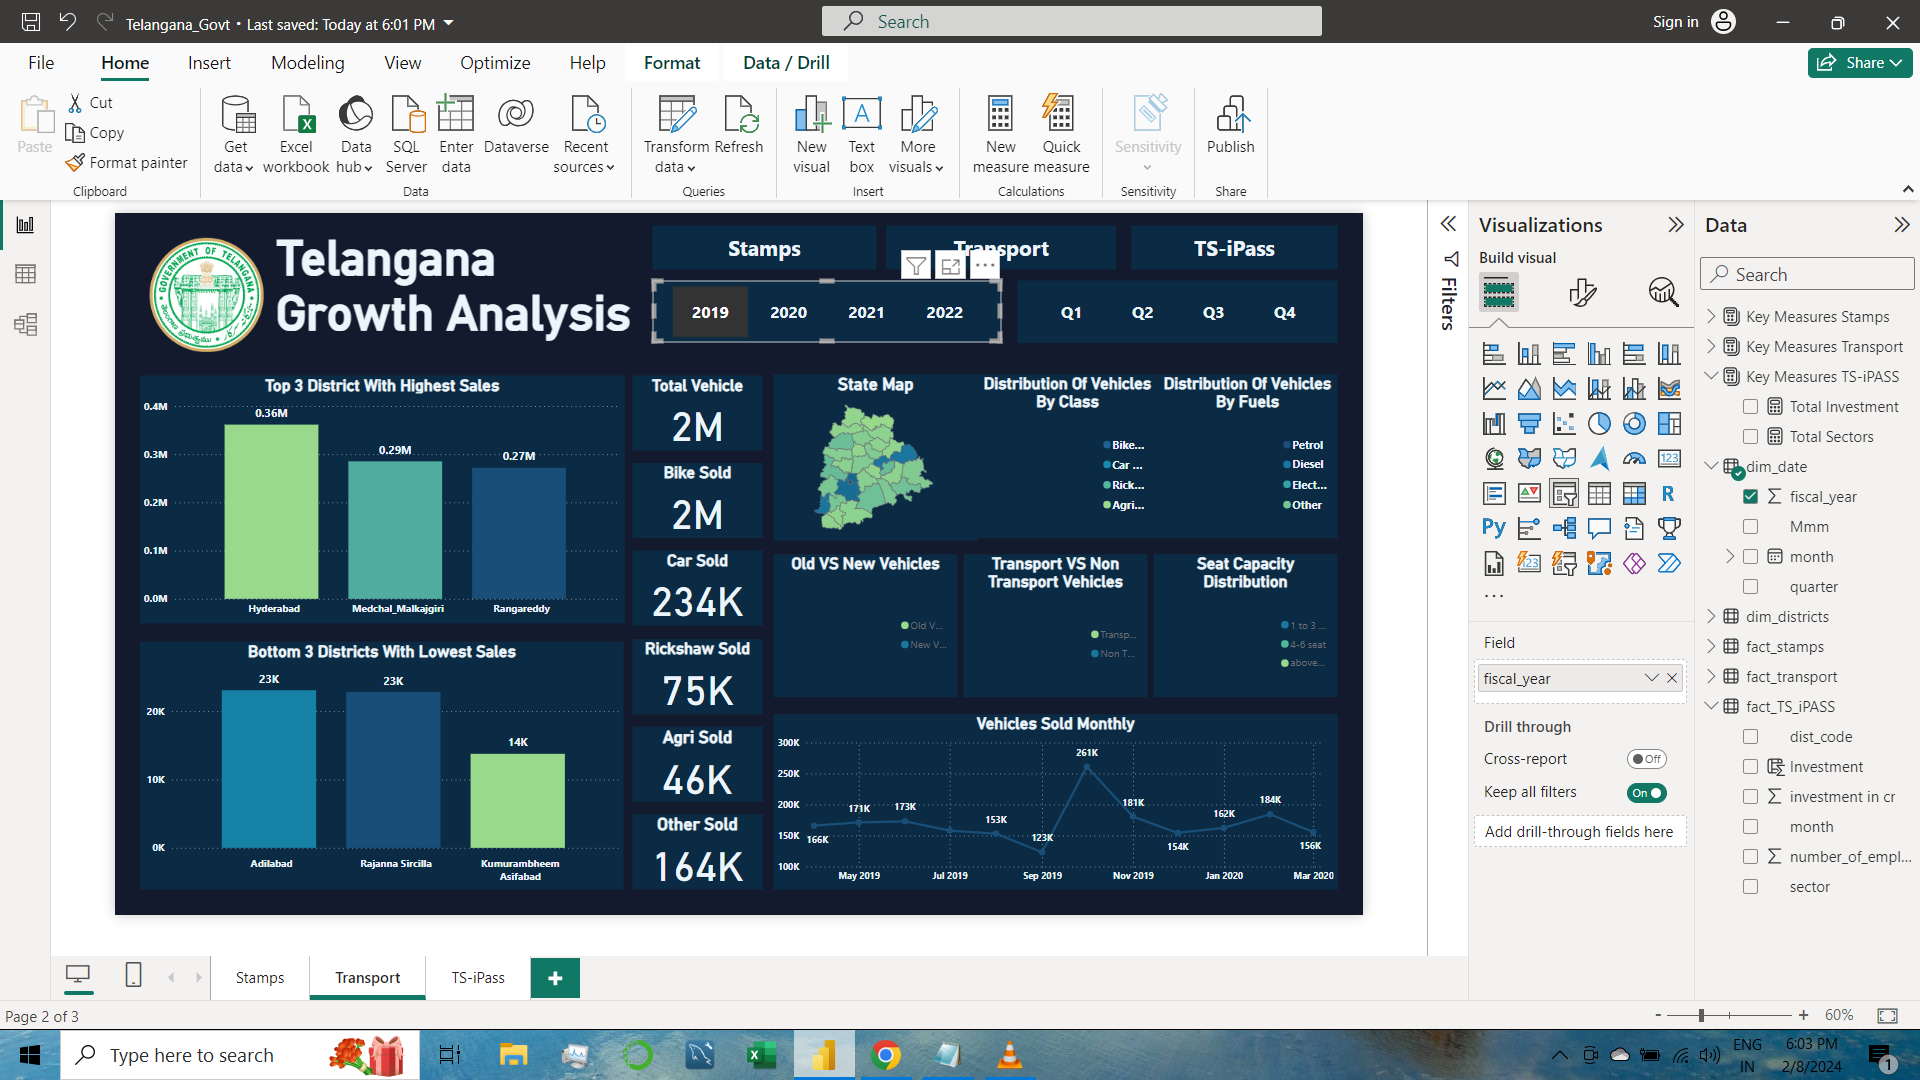

This screenshot's page, from the dashboard's own definition file:
{"tool":"powerbi","page":{"name":"Transport","canvas":[1664,936],"ordinal":1},"visuals":[{"type":"slicer","fields":{"Values":["dim_date.fiscal_year"]},"box":[716.7,90,465,83.3],"z":0},{"type":"slicer","fields":{"Values":["dim_date.quarter"]},"box":[1203.3,90,426.7,83.3],"z":1000},{"type":"clusteredColumnChart","title":"Top 3 District With Highest Sales","fields":{"Category":["dim_districts.district"],"Y":["Key Measures Transport.Total Vehicle Sold"]},"box":[34,216,646,330],"z":2000},{"type":"clusteredColumnChart","title":"Bottom 3 Districts With Lowest Sales","fields":{"Category":["dim_districts.district"],"Y":["Key Measures Transport.Total Vehicle Sold"]},"box":[33.3,571.7,645,330],"z":3000},{"type":"lineChart","title":"Vehicles Sold Monthly","fields":{"Category":["dim_date.month"],"Y":["Key Measures Transport.Total Vehicle Sold"]},"box":[878.3,668.3,751.7,233.3],"z":4000},{"type":"donutChart","title":"Old VS New Vehicles","fields":{"Y":["Key Measures Transport.Old Vehicles","Key Measures Transport.New Vehicles"]},"box":[878.3,455,245,190],"z":5000},{"type":"pieChart","title":"Distribution Of Vehicles By Class","fields":{"Y":["Key Measures Transport.Bike sOLD","Key Measures Transport.Car Sold","Key Measures Transport.Rickshaw Sold","Key Measures Transport.Agriculture Sold"]},"box":[1150,215,240,218.8],"z":6000},{"type":"card","title":"Other Sold","fields":{"Values":["Key Measures Transport.Other Vechile Sold"]},"box":[690,801.7,173.3,100],"z":7000},{"type":"card","title":"Agri Sold","fields":{"Values":["Key Measures Transport.Agriculture Sold"]},"box":[690,684.7,173.3,100],"z":8000},{"type":"card","title":"Rickshaw Sold","fields":{"Values":["Key Measures Transport.Rickshaw Sold"]},"box":[690,567.7,173.3,100],"z":9000},{"type":"card","title":"Car Sold","fields":{"Values":["Key Measures Transport.Used Vehicles Sold"]},"box":[690,450.7,173.3,100],"z":10000},{"type":"shapeMap","title":"State Map","fields":{"Category":["dim_districts.district"],"Value":["Key Measures Transport.Total Vehicle Sold"]},"box":[878.3,215,271.7,221.7],"z":11000},{"type":"card","title":"Bike Sold","fields":{"Values":["Key Measures Transport.New Vehicles Sold"]},"box":[690,333.7,173.3,100],"z":12000},{"type":"card","title":"Total Vehicle ","fields":{"Values":["Key Measures Transport.Total Vehicle Sold"]},"box":[690,216.7,173.3,100],"z":13000},{"type":"image","box":[33.3,28.3,176.7,161.7],"z":14000},{"type":"textbox","box":[210,16.7,506.7,173.3],"z":15000},{"type":"actionButton","box":[716.7,16.7,298.3,58.3],"z":16000},{"type":"actionButton","box":[1355,16.7,275,58.3],"z":17000},{"type":"actionButton","box":[1028.3,16.7,306.7,58.3],"z":18000},{"type":"donutChart","title":"Transport VS Non Transport Vehicles","fields":{"Y":["Key Measures Transport.Transport Vehicles","Key Measures Transport.Non Transport"]},"box":[1131.7,455,245,190],"z":19000},{"type":"donutChart","title":"Seat Capacity Distribution","fields":{"Y":["Key Measures Transport.1 to 3 seat","Key Measures Transport.4-6 seat","Key Measures Transport.above 6 seat"]},"box":[1385,455,245,190],"z":20000},{"type":"pieChart","title":"Distribution Of Vehicles By Fuels","fields":{"Y":["Key Measures Transport.Petrol","Key Measures Transport.Diesel","Key Measures Transport.Electric","Key Measures Transport.Other Fuel type"]},"box":[1390,215,240,218.3],"z":21000}]}

Visuals, with their boxes on the page's 1664x936 design canvas (x1, y1, x2, y2). These are canvas units, not pixel positions in the 1920x1080 screenshot, which may show the page scaled, cropped or inside an application window:
slicer - dim_date.fiscal_year: detection(717, 90, 1182, 173)
slicer - dim_date.quarter: detection(1203, 90, 1630, 173)
"Top 3 District With Highest Sales" clusteredColumnChart: detection(34, 216, 680, 546)
"Bottom 3 Districts With Lowest Sales" clusteredColumnChart: detection(33, 572, 678, 902)
"Vehicles Sold Monthly" lineChart: detection(878, 668, 1630, 902)
"Old VS New Vehicles" donutChart: detection(878, 455, 1123, 645)
"Distribution Of Vehicles By Class" pieChart: detection(1150, 215, 1390, 434)
"Other Sold" card: detection(690, 802, 863, 902)
"Agri Sold" card: detection(690, 685, 863, 785)
"Rickshaw Sold" card: detection(690, 568, 863, 668)
"Car Sold" card: detection(690, 451, 863, 551)
"State Map" shapeMap: detection(878, 215, 1150, 437)
"Bike Sold" card: detection(690, 334, 863, 434)
"Total Vehicle " card: detection(690, 217, 863, 317)
image: detection(33, 28, 210, 190)
textbox: detection(210, 17, 717, 190)
actionButton: detection(717, 17, 1015, 75)
actionButton: detection(1355, 17, 1630, 75)
actionButton: detection(1028, 17, 1335, 75)
"Transport VS Non Transport Vehicles" donutChart: detection(1132, 455, 1377, 645)
"Seat Capacity Distribution" donutChart: detection(1385, 455, 1630, 645)
"Distribution Of Vehicles By Fuels" pieChart: detection(1390, 215, 1630, 433)
